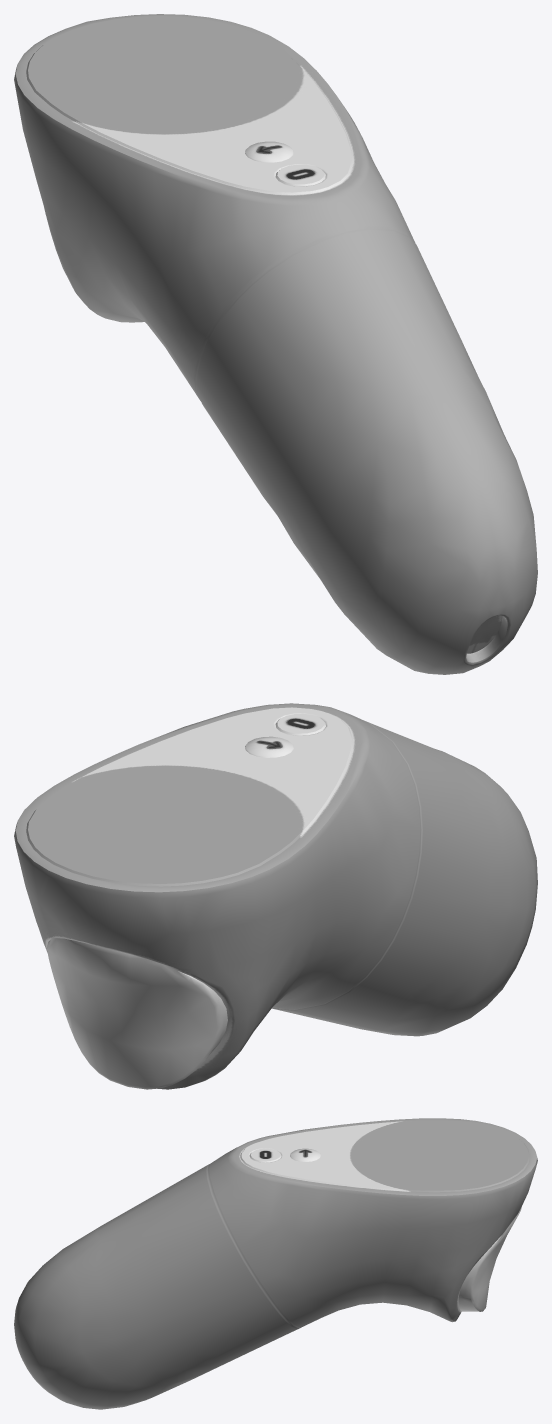
File: oculus-go-controller.glb
3 views of the same model, one above another, from view 1: azimuth 30°, elevation 25°; view 2: azimuth 150°, elevation 25°; view 3: azimuth 270°, elevation 25° (orthographic). The views are drawn at different scales.
Parts seen in each view (by area): view 1: oculus-go-controller; view 2: oculus-go-controller; view 3: oculus-go-controller.
Boxes of the visible parts, x1=… form: oculus-go-controller: x1=14, y1=14, x2=537, y2=674; oculus-go-controller: x1=14, y1=703, x2=537, y2=1089; oculus-go-controller: x1=14, y1=1118, x2=537, y2=1409.
Size of the model in its own units: 4.39 by 6.55 by 12.31.
1 material, 1 textured.
